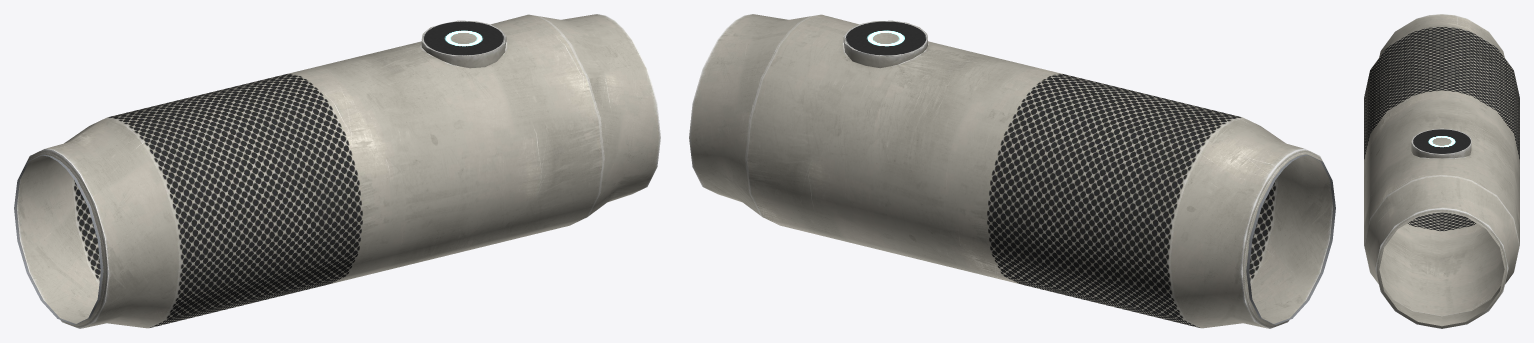
File: grip_15_c_d.glb
3 renders of one model, left to right at view 1: azimuth 30°, elevation 25°; view 2: azimuth 150°, elevation 25°; view 3: azimuth 270°, elevation 25°, orthographic. The views are drawn at different scales.
Parts seen in each view (by area): view 1: grip_15_c_d_lod0; view 2: grip_15_c_d_lod0; view 3: grip_15_c_d_lod0.
Boxes of the visible parts, x1,y1,x2,y2 form: grip_15_c_d_lod0: [14, 14, 660, 328]; grip_15_c_d_lod0: [689, 14, 1335, 328]; grip_15_c_d_lod0: [1364, 14, 1519, 328].
Size of what is drawn, in the model's own units: 0.1058 by 0.0362 by 0.0354.
Materials: 1 (1 with a texture image).
